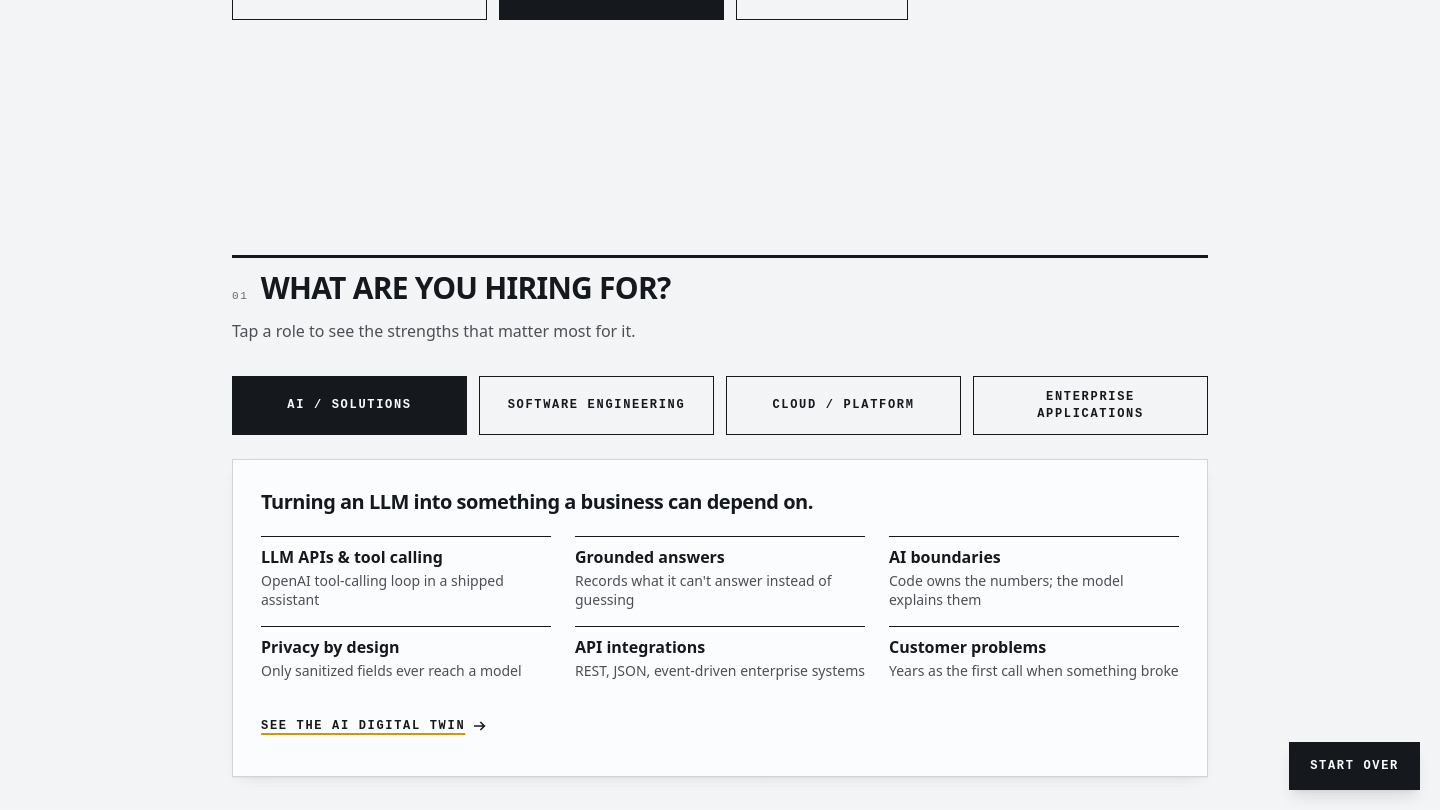
Test: /career › switches the strengths block when a role is selected
This screenshot has width=1440, height=810.
(page scrolled)
Check: the text "LLM APIs & tool calling" is shown, box [261,546,443,568]
Click the button "Software Engineering".
click(596, 406)  # box [479,376,714,435]
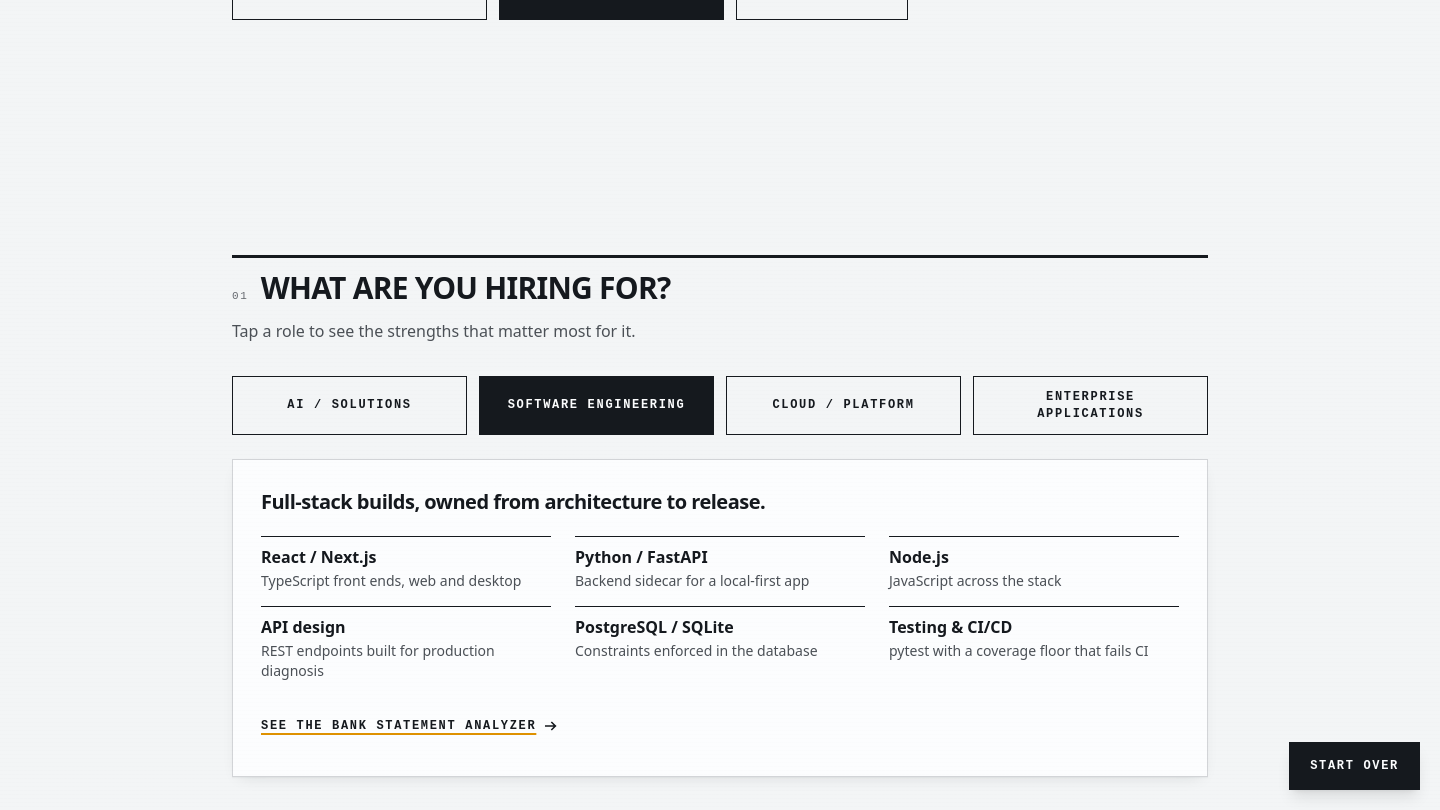
Check: the text "React / Next.js" is shown, box [261,546,376,568]
Check: the text "LLM APIs & tool calling" is gone
